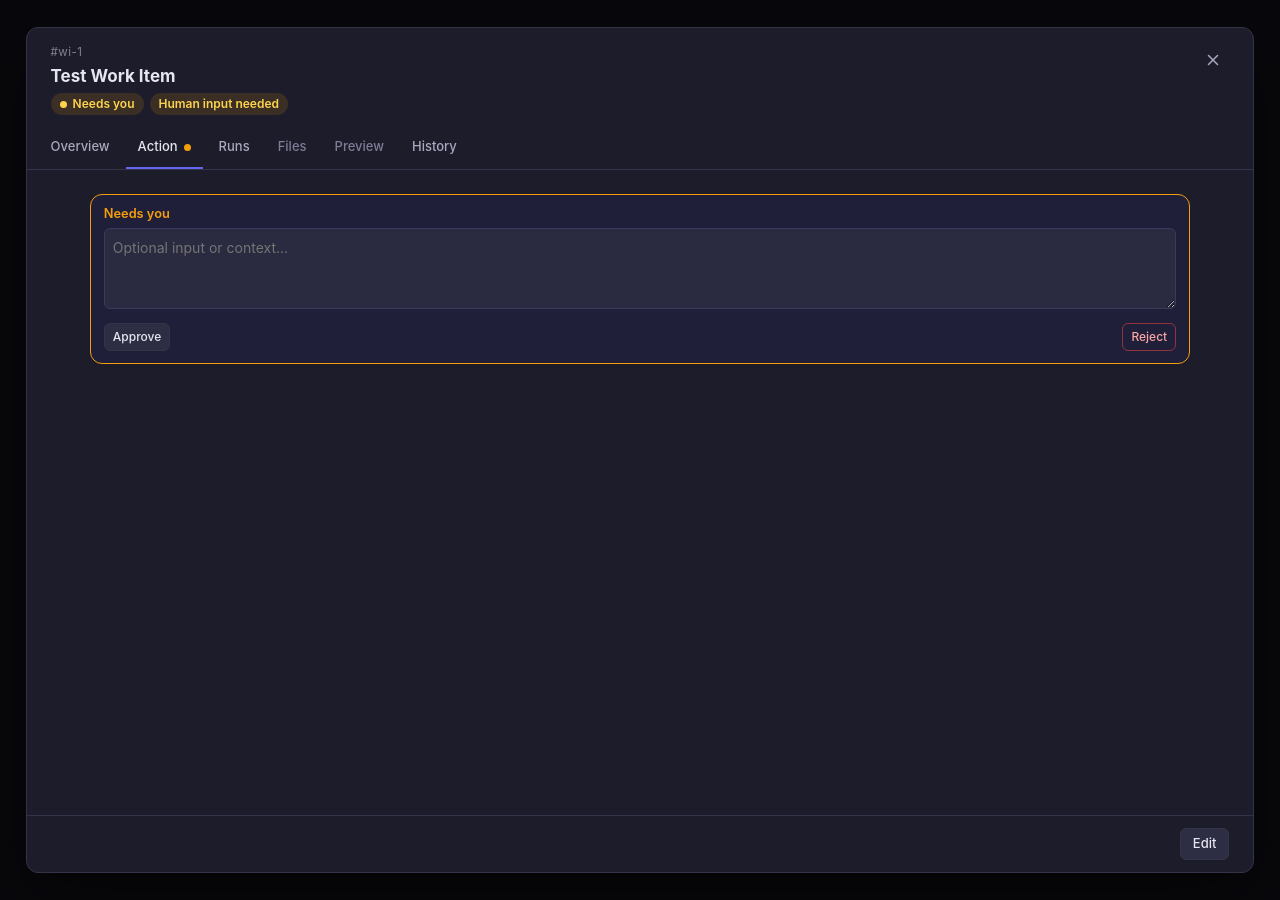
Scenario: an answer that has been submitted › holds its controls until the dialog is showing what the run did next
Step 1. Click the button "Approve" → [137, 337], box [104, 323, 170, 351]
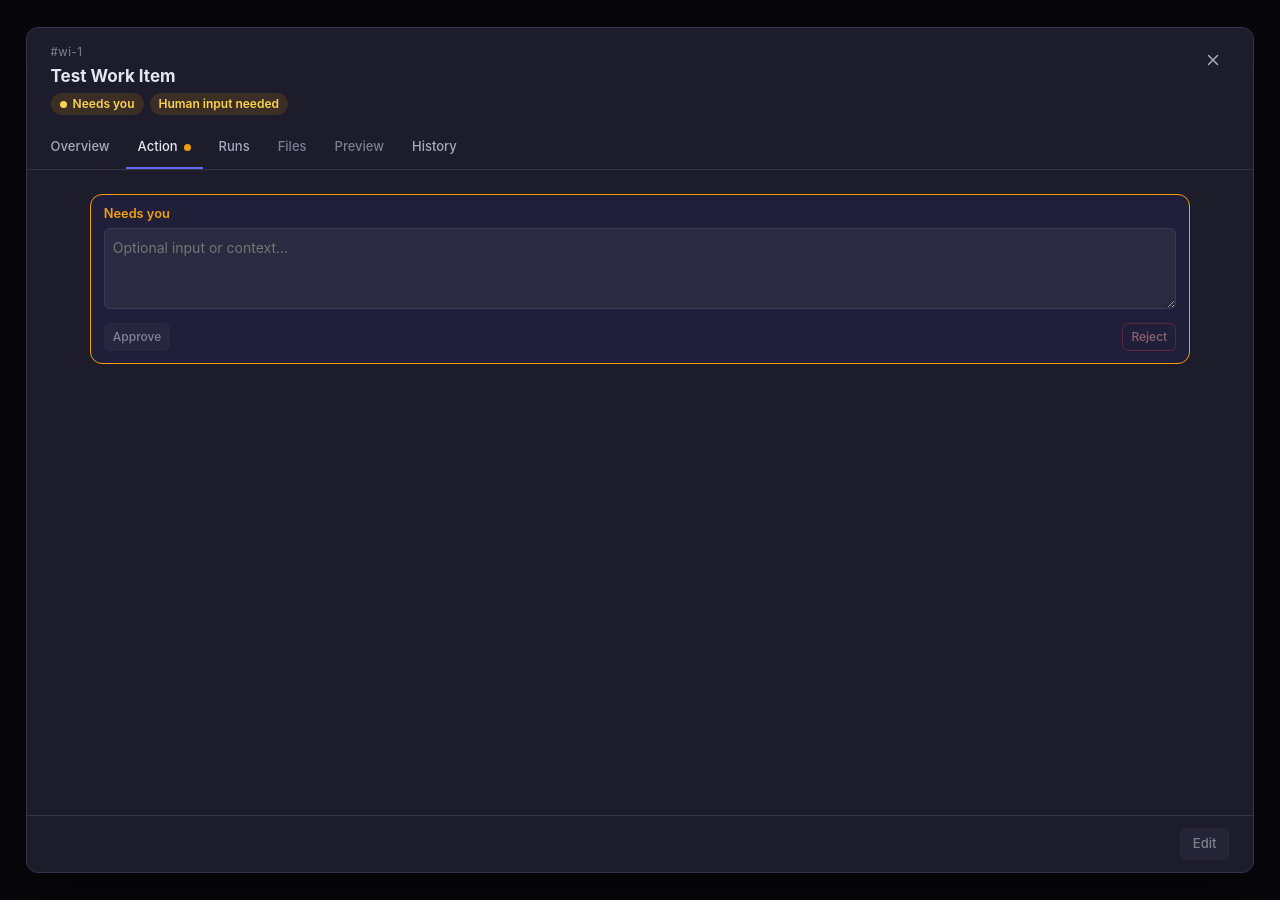
Check: the button "Approve" is disabled
Step 2. Click the button "Approve" → [137, 337], box [104, 323, 170, 351]
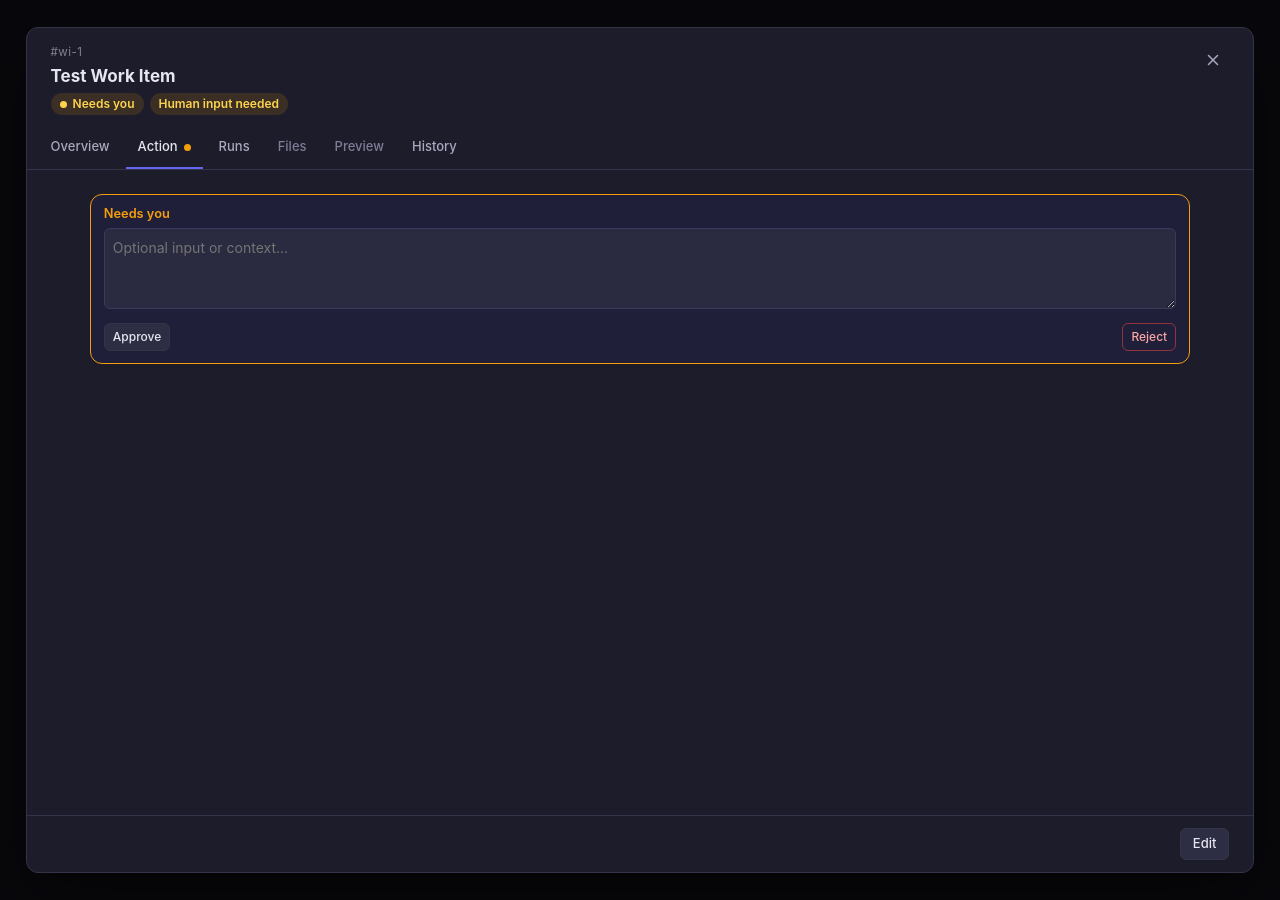
Check: the button "Approve" is enabled, box [104, 323, 170, 351]
